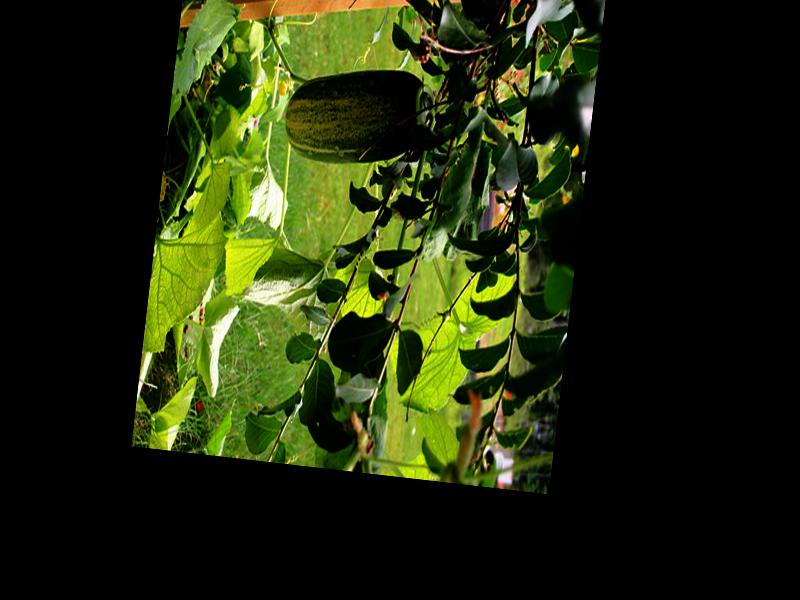Cucumber: (280, 56, 439, 171)
